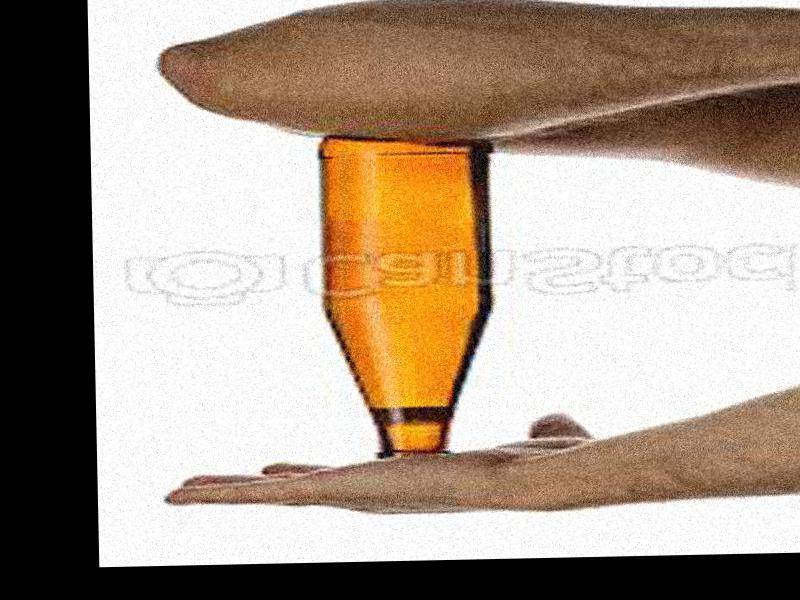Beer: (314, 137, 504, 463)
